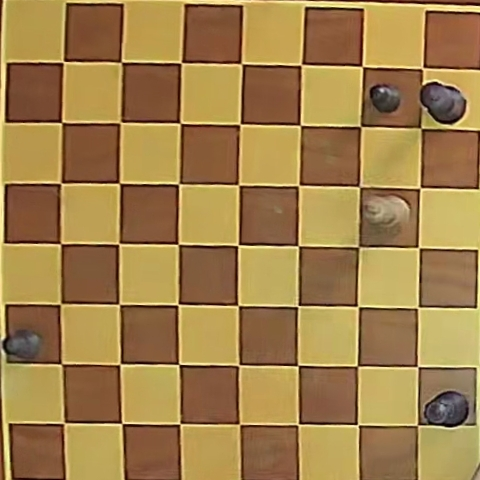black-king: (420, 82, 466, 124)
black-pawn: (3, 330, 43, 360), (369, 83, 402, 113)
black-queen: (423, 391, 469, 428)
white-king: (365, 194, 411, 232)
